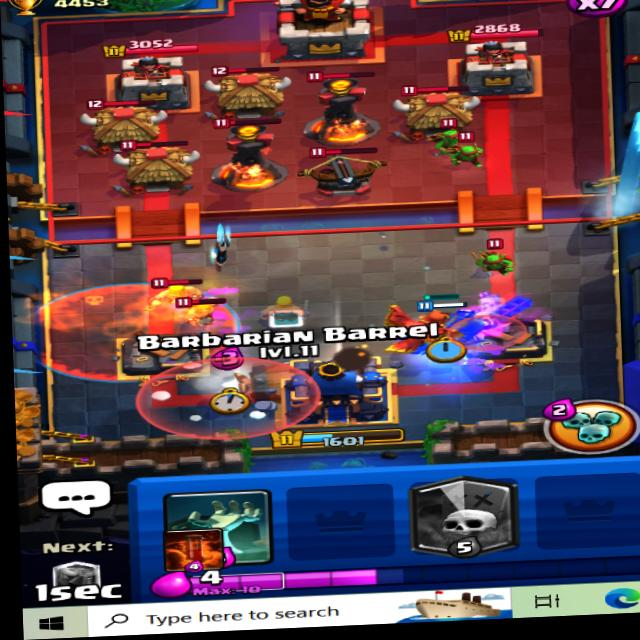Barbarian: (153, 275, 211, 310), (176, 294, 226, 330)
Goblinhut: (111, 133, 205, 194), (202, 60, 292, 122), (398, 81, 479, 141), (86, 97, 172, 152)
Infernotower: (205, 110, 304, 201), (303, 67, 378, 142)
Speargoblin: (470, 238, 512, 279), (436, 120, 467, 151), (453, 137, 486, 163)
Xbow: (296, 137, 385, 198)
